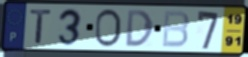3: (56, 6, 86, 48)
7: (197, 9, 220, 51)
B: (160, 10, 191, 49)
D: (125, 9, 155, 49)
O: (93, 7, 123, 48)
T: (28, 8, 54, 45)
